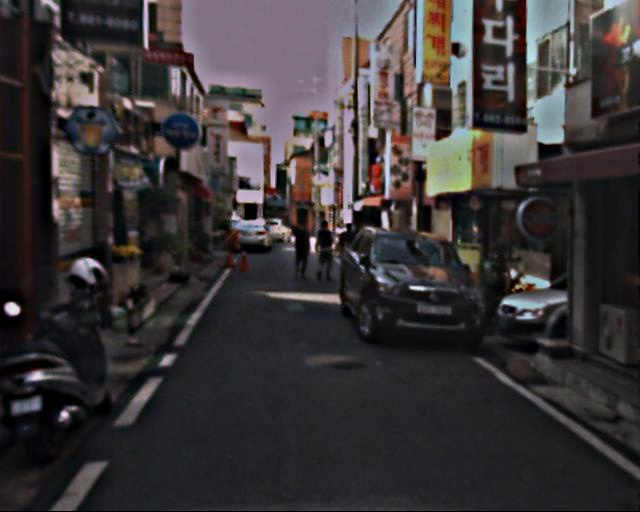person: (288, 220, 314, 284), (313, 220, 338, 282), (337, 223, 361, 282)
